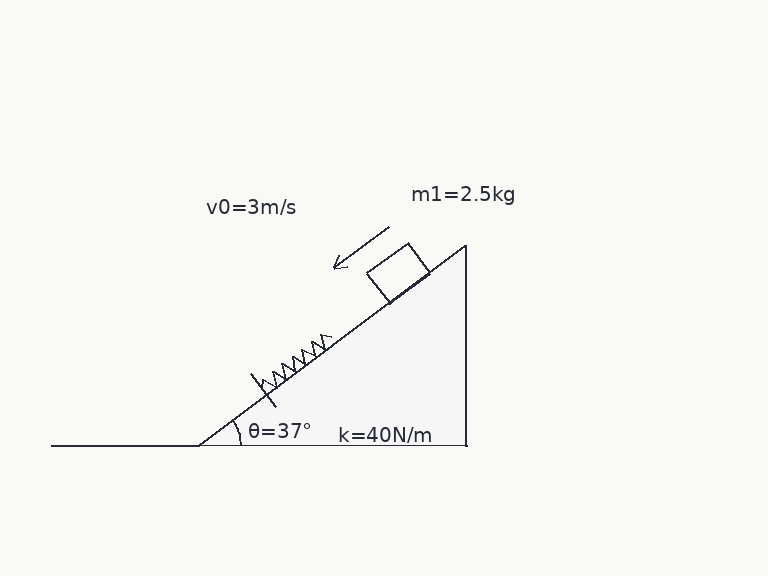block: (365, 241, 432, 305)
ramp: (199, 243, 468, 447)
spring: (260, 332, 333, 390)
